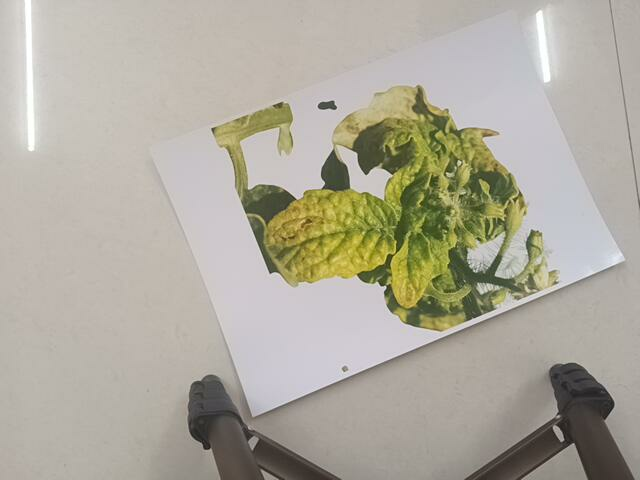Tomamto_Leaf_curl_virus: (219, 124, 551, 315)
